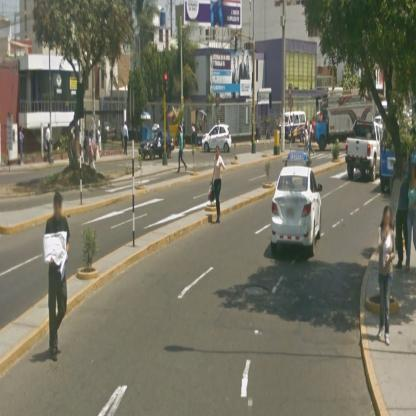Peaton: (44, 193, 72, 361), (379, 208, 397, 345), (212, 146, 227, 223)
Pista: (15, 152, 414, 406), (10, 146, 349, 306)
Vehiculo: (272, 152, 324, 258), (140, 125, 175, 161)
